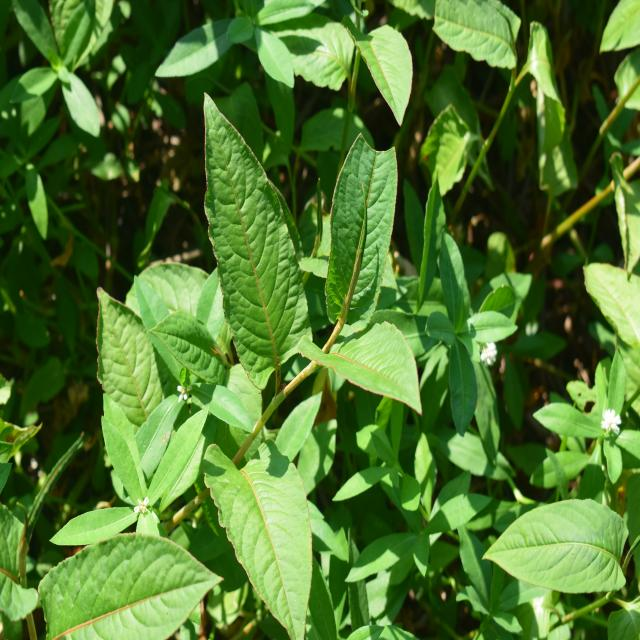Chinese_knotweed: (183, 100, 418, 470)
